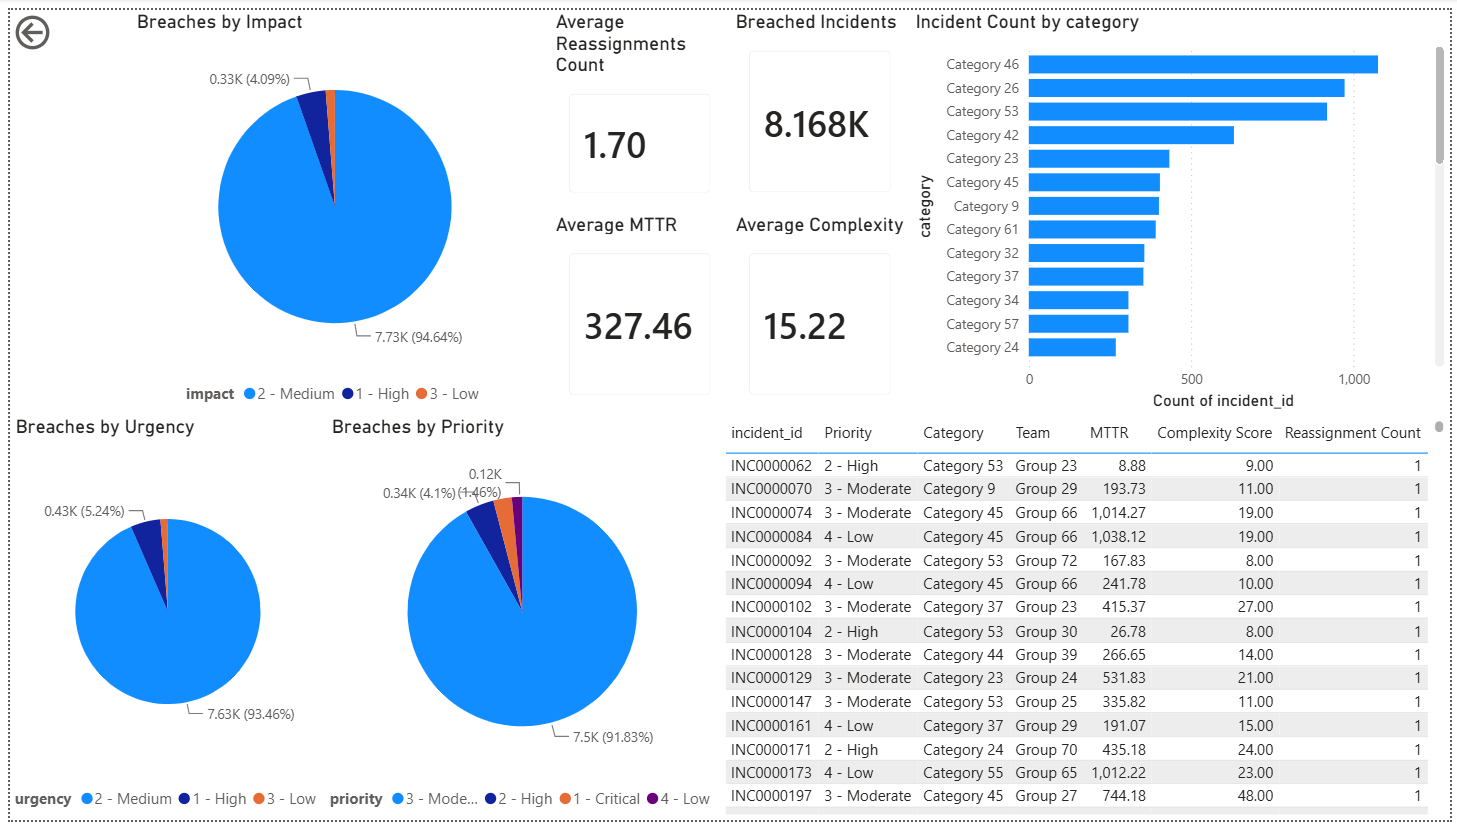

This screenshot's page, from the dashboard's own definition file:
{"tool":"powerbi","page":{"name":"SLA Breach Investigation","canvas":[1280,720],"ordinal":7},"visuals":[{"type":"actionButton","box":[0,0,100,40],"z":0},{"type":"cardVisual","title":"Breached Incidents","fields":{"Data":["CountNonNull(incident_analytics fact_incidents.made_sla)"]},"box":[640,0,160,180],"z":1000},{"type":"cardVisual","title":"Average MTTR","fields":{"Data":["Avg(incident_analytics fact_incidents.mttr_adjusted)"]},"box":[480,180,160,180],"z":2000},{"type":"cardVisual","title":"Average Complexity","fields":{"Data":["Avg(incident_analytics fact_incidents.complexity_score)"]},"box":[640,180,160,180],"z":3000},{"type":"cardVisual","title":"Average Reassignments Count","fields":{"Data":["Avg(incident_analytics fact_incidents.reassignment_count)"]},"box":[480,0,160,180],"z":4000},{"type":"barChart","title":"Incident Count by category","fields":{"Category":["incident_analytics dim_category.category"],"Y":["CountNonNull(incident_analytics fact_incidents.incident_id)"]},"box":[800,0,480,360],"z":5000},{"type":"pieChart","title":"Breaches by Priority","fields":{"Category":["incident_analytics dim_priority.priority"],"Y":["CountNonNull(incident_analytics fact_incidents.incident_id)"]},"box":[281.1,360,348.9,360],"z":6000},{"type":"tableEx","fields":{"Values":["incident_analytics fact_incidents.incident_id","incident_analytics dim_priority.priority","incident_analytics dim_category.category","incident_analytics dim_support_team.assignment_group","Avg(incident_analytics fact_incidents.mttr_hours)","Avg(incident_analytics fact_incidents.complexity_score)","Count(incident_analytics fact_incidents.reassignment_count)"]},"box":[630,360,650,360],"z":7000},{"type":"pieChart","title":"Breaches by Urgency","fields":{"Category":["incident_analytics dim_priority.urgency"],"Y":["CountNonNull(incident_analytics fact_incidents.incident_id)"]},"box":[0,360,281.1,360],"z":8000},{"type":"pieChart","title":"Breaches by Impact","fields":{"Category":["incident_analytics dim_priority.impact"],"Y":["CountNonNull(incident_analytics fact_incidents.incident_id)"]},"box":[107.5,0,362.5,360],"z":9000}]}

Visuals, with their boxes in screenshot pixels (x1, y1, x2, y2), scaled from the page's 1280x720 canvas onto the 1457x827 screenshot:
actionButton: bbox(0, 0, 114, 46)
"Breached Incidents" cardVisual: bbox(728, 0, 911, 207)
"Average MTTR" cardVisual: bbox(546, 207, 728, 413)
"Average Complexity" cardVisual: bbox(728, 207, 911, 413)
"Average Reassignments Count" cardVisual: bbox(546, 0, 728, 207)
"Incident Count by category" barChart: bbox(911, 0, 1456, 413)
"Breaches by Priority" pieChart: bbox(320, 413, 717, 826)
tableEx - incident_analytics fact_incidents.incident_id x incident_analytics dim_priority.priority: bbox(717, 413, 1456, 826)
"Breaches by Urgency" pieChart: bbox(0, 413, 320, 826)
"Breaches by Impact" pieChart: bbox(122, 0, 535, 413)
